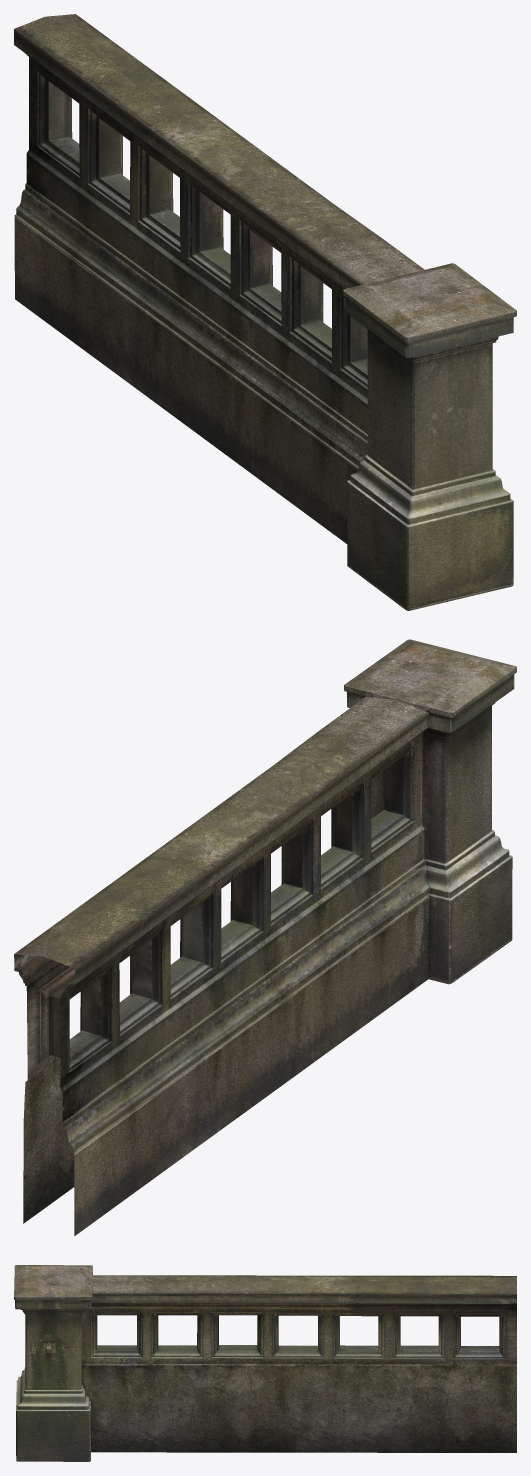
Rendered from sm_GraveBanister_01_01.fbx.
3 views of the same model, one above another, from view 1: azimuth 30°, elevation 25°; view 2: azimuth 150°, elevation 25°; view 3: azimuth 270°, elevation 25° (orthographic). The views are drawn at different scales.
Visible parts, largest first — view 1: sm_GraveBanister_01_01_LOD0; view 2: sm_GraveBanister_01_01_LOD0; view 3: sm_GraveBanister_01_01_LOD0.
Part boxes in pixels (box(x1,y1,x2,y2)): sm_GraveBanister_01_01_LOD0: box(14, 14, 516, 610); sm_GraveBanister_01_01_LOD0: box(14, 639, 516, 1235); sm_GraveBanister_01_01_LOD0: box(14, 1265, 516, 1461).
Bounding box in the file's own units: 42.61 × 277 × 102.
